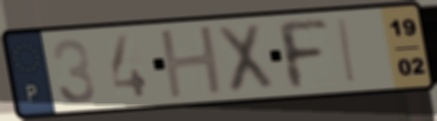3: (50, 36, 97, 106)
4: (110, 31, 151, 101)
F: (271, 18, 333, 93)
H: (156, 22, 228, 102)
I: (336, 16, 361, 87)
X: (213, 20, 278, 96)
